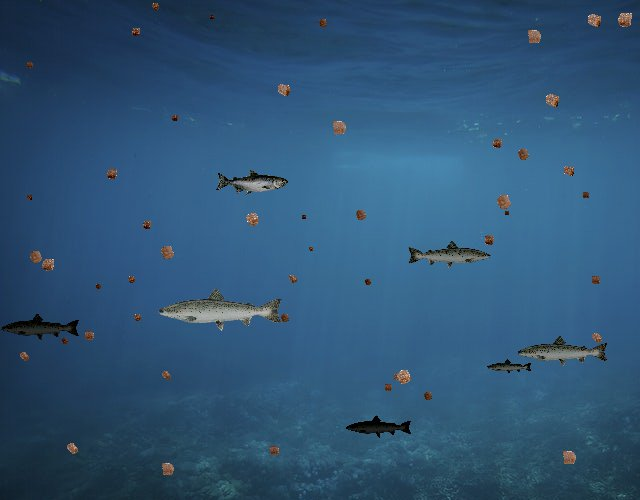Fish: (156, 286, 285, 332), (517, 335, 611, 369), (406, 239, 492, 270), (0, 313, 81, 342), (216, 169, 289, 196), (346, 415, 414, 439), (486, 359, 533, 376)
Pellet: (610, 5, 640, 34), (238, 206, 266, 234), (270, 77, 297, 104), (60, 436, 85, 461), (23, 191, 35, 203)
